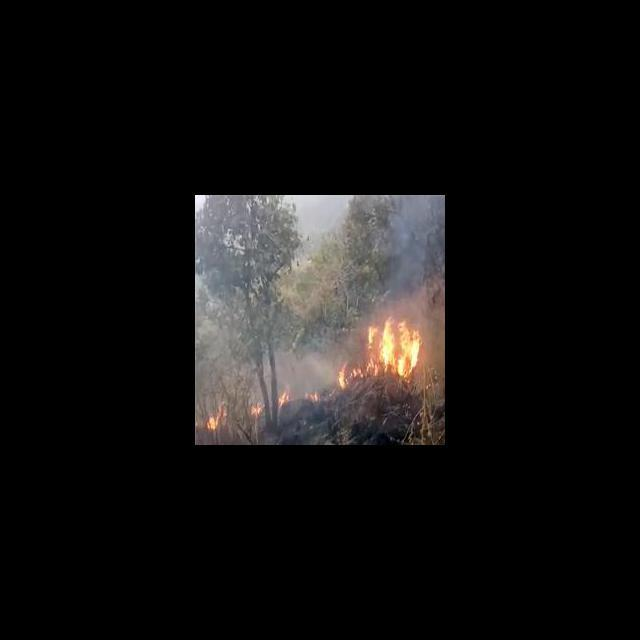Fire: (334, 318, 422, 389), (202, 402, 228, 434), (276, 384, 293, 405), (304, 388, 320, 403), (252, 400, 264, 418)
Smoke: (367, 196, 442, 316)
